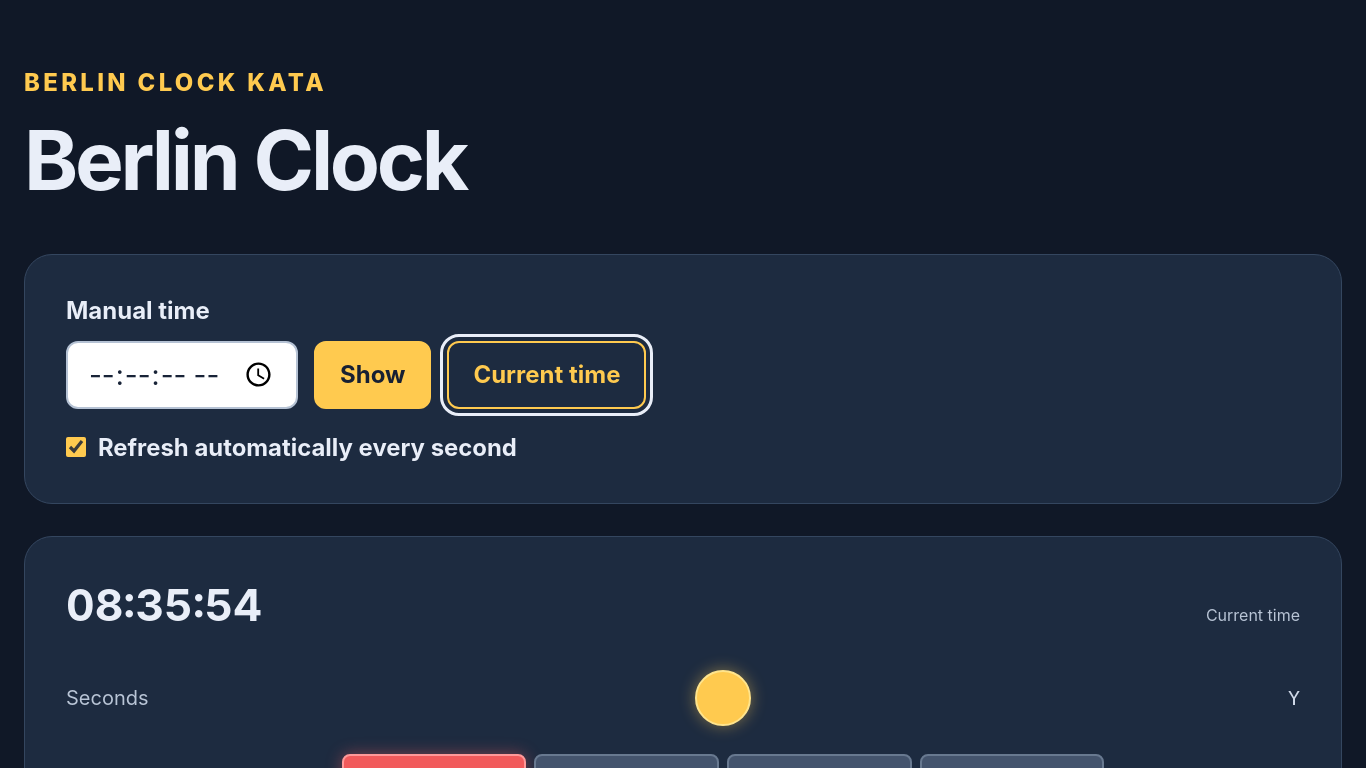
Test: Berlin Clock interactions › returns to the browser's current local time
Type "23:12:47" into the time field labelled "Manual time" at (182, 375), box [66,341,298,409]
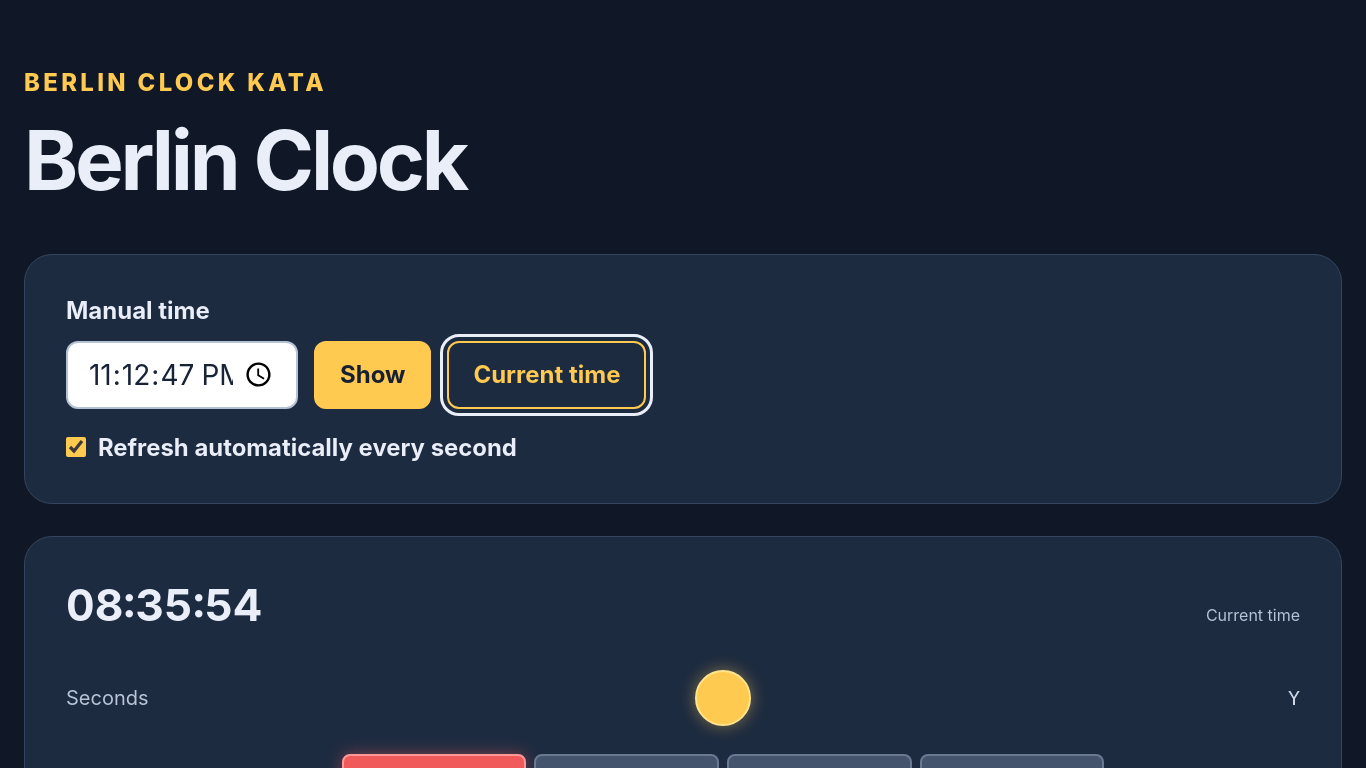
Click the button "Show" at (373, 375), box [314,341,432,409]
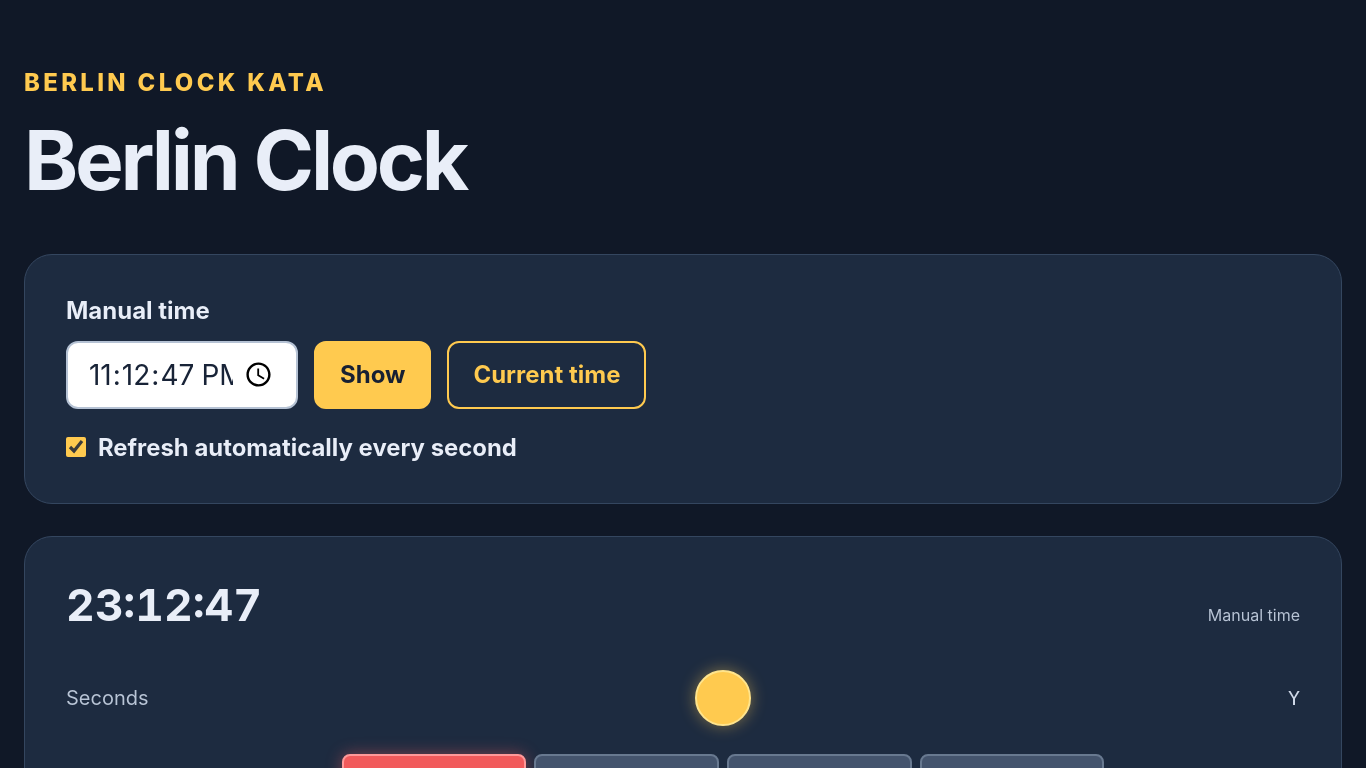
Click the button "Current time" at (547, 375), box [447,341,646,409]
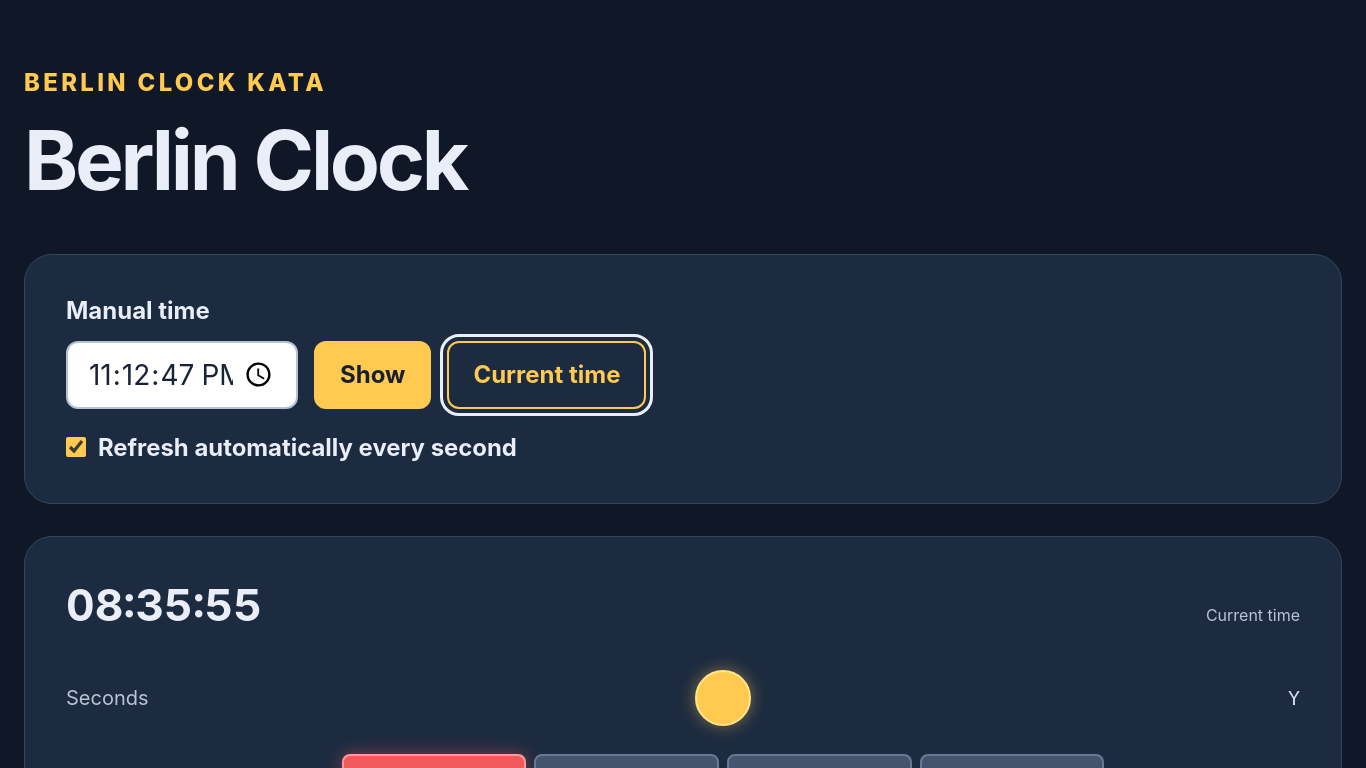
Check: the heading "08:35:55" is shown, box [66,578,262,632]
